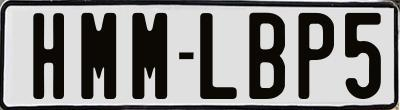5: (344, 11, 382, 100)
B: (249, 13, 289, 100)
H: (33, 13, 69, 99)
L: (198, 11, 239, 100)
M: (79, 10, 118, 96), (132, 11, 167, 97)
P: (296, 12, 337, 101)
